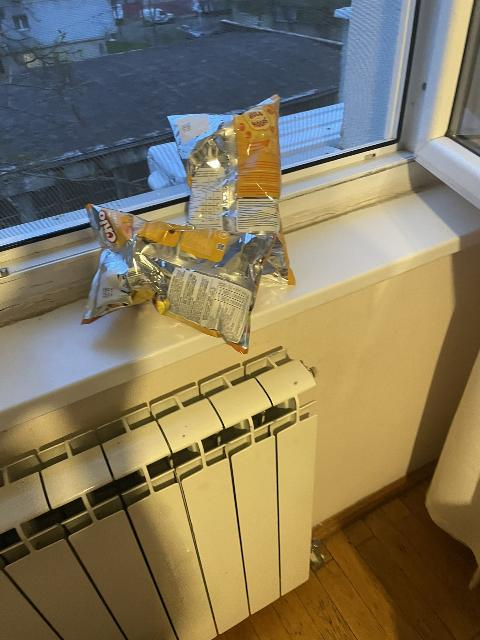Chio Cascaval 125g: (76, 205, 287, 353)
Chio Hula Hoops Cheese 70g: (169, 97, 294, 289)
